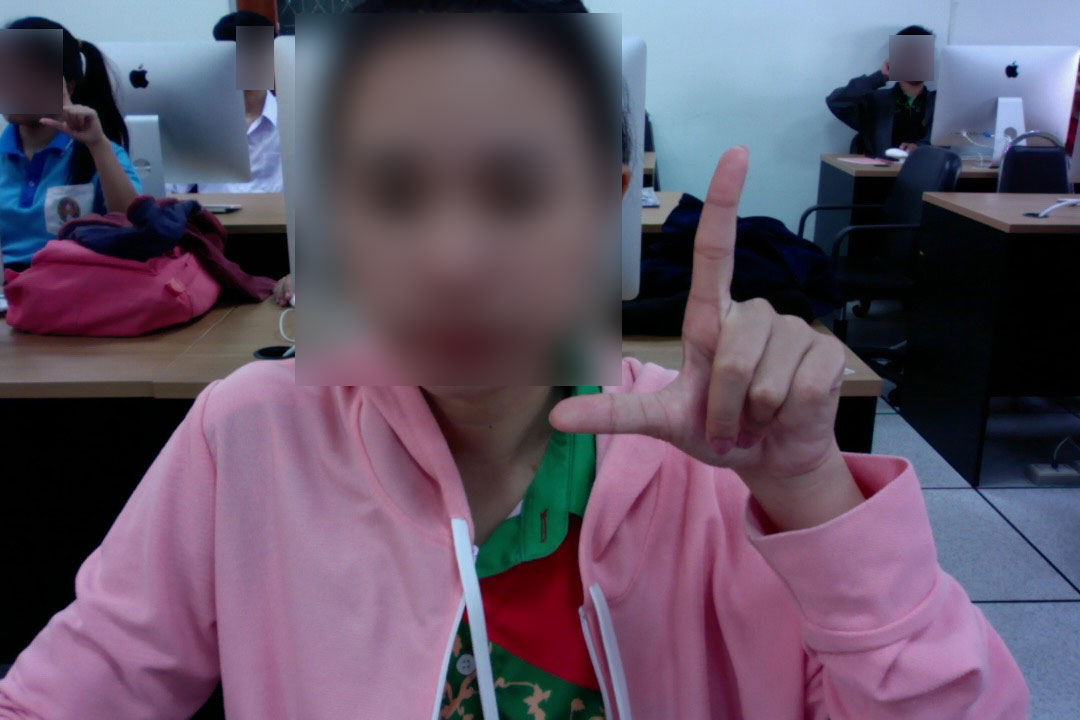lor: (534, 136, 886, 484)
